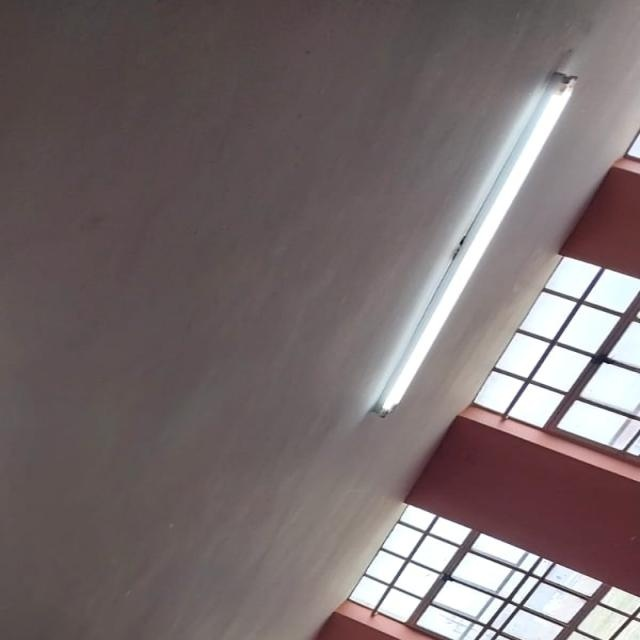fluorescent tube: (358, 56, 590, 436)
